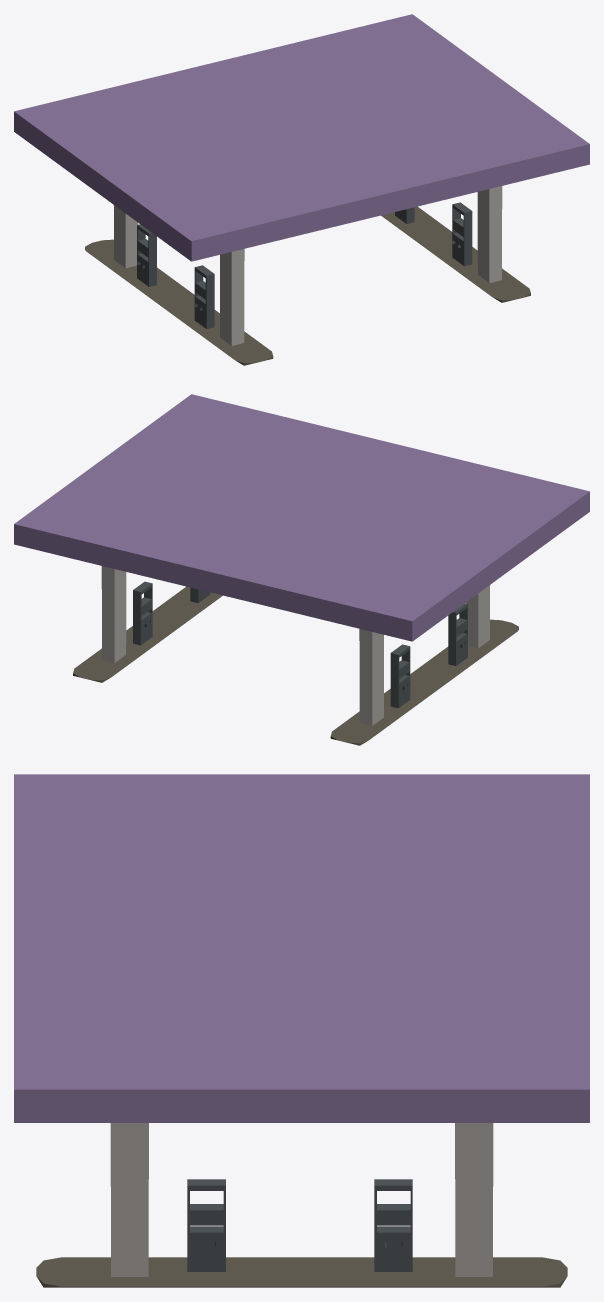
The model's file is gas-forecourt.lod2.glb.
3 views of the same model, one above another, from view 1: azimuth 30°, elevation 25°; view 2: azimuth 150°, elevation 25°; view 3: azimuth 270°, elevation 25° (orthographic). The views are drawn at different scales.
Parts seen in each view (by area): view 1: Sidewalk_Asphalt_0; view 2: Sidewalk_Asphalt_0; view 3: Sidewalk_Asphalt_0.
Part boxes in pixels (<box>): Sidewalk_Asphalt_0: <box>14,14,589,365</box>; Sidewalk_Asphalt_0: <box>14,394,589,745</box>; Sidewalk_Asphalt_0: <box>14,774,589,1287</box>.
Bounding box in the file's own units: 21.67 × 7.6 × 16.73.
